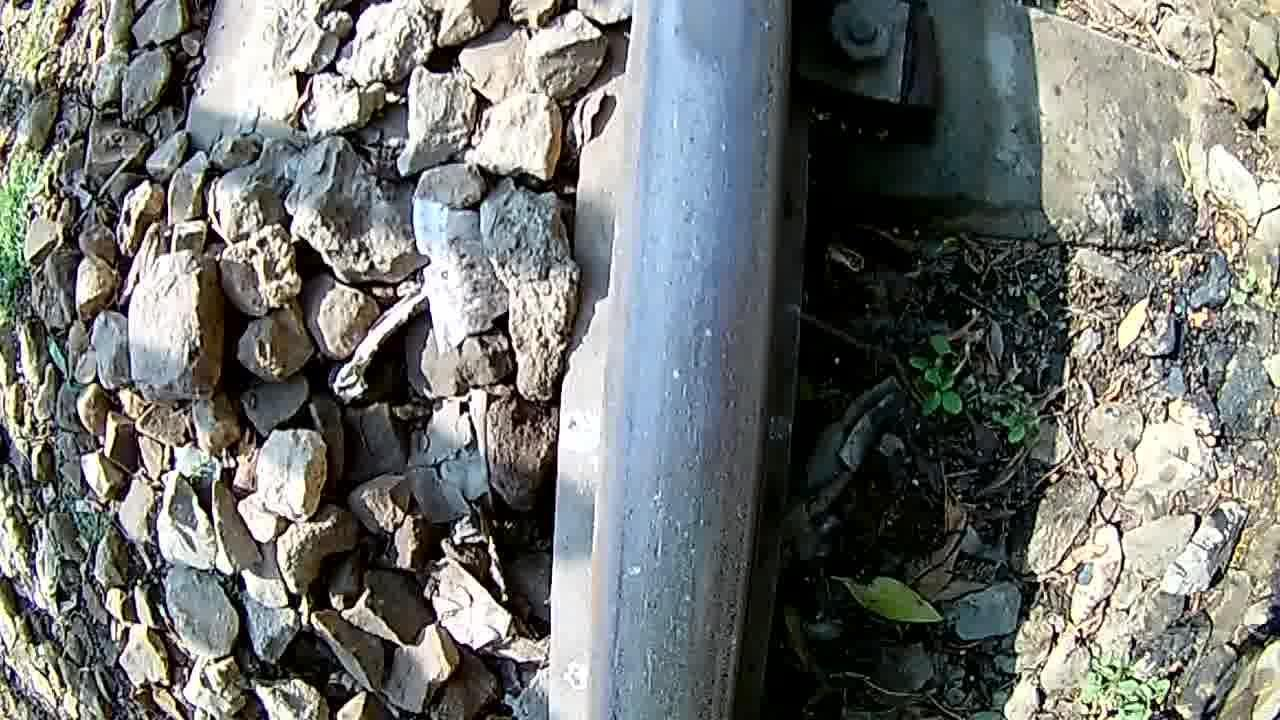crack: (639, 0, 804, 203)
